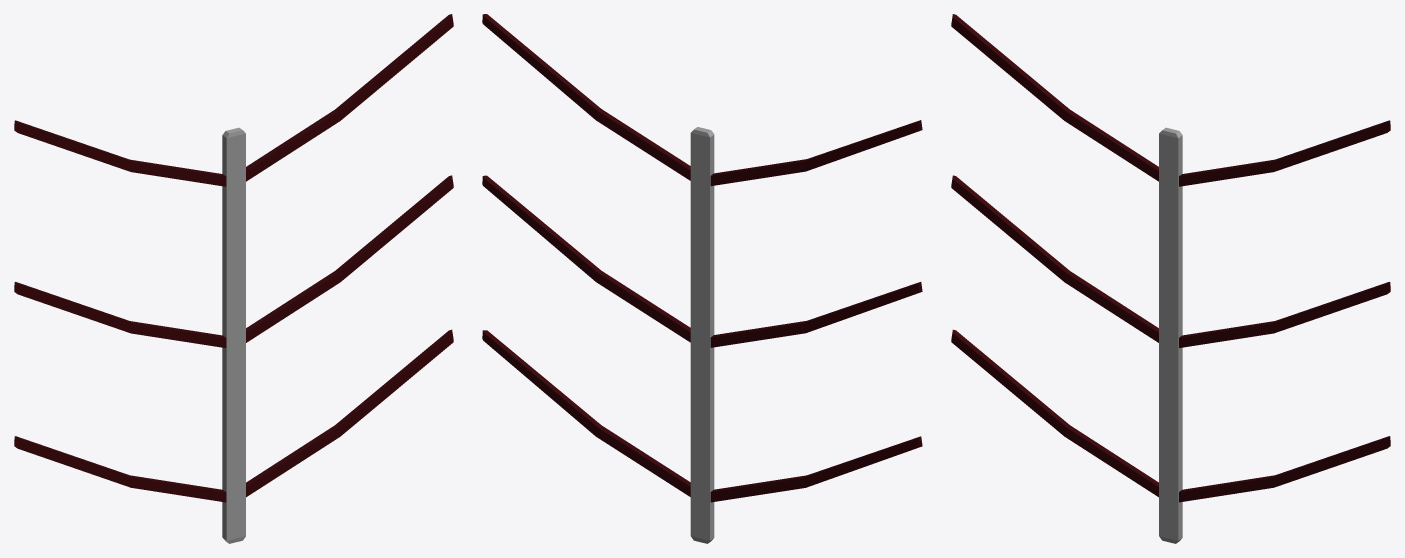
The model's file is SW_VEH_Train_CrossGuard.fbx.
The picture shows the model from 3 angles, left to right: view 1: azimuth 30°, elevation 25°; view 2: azimuth 150°, elevation 25°; view 3: azimuth 330°, elevation 25°; orthographic projection.
Visible parts, largest first — view 1: SW_VEH_Train_CrossGuard; view 2: SW_VEH_Train_CrossGuard; view 3: SW_VEH_Train_CrossGuard.
Boxes of the visible parts, box(x1,y1,x2,y2) form: SW_VEH_Train_CrossGuard: box(14, 14, 453, 543); SW_VEH_Train_CrossGuard: box(482, 14, 922, 543); SW_VEH_Train_CrossGuard: box(951, 14, 1390, 543).
Size of the model in its own units: 84.44 by 86.88 by 1.46.
